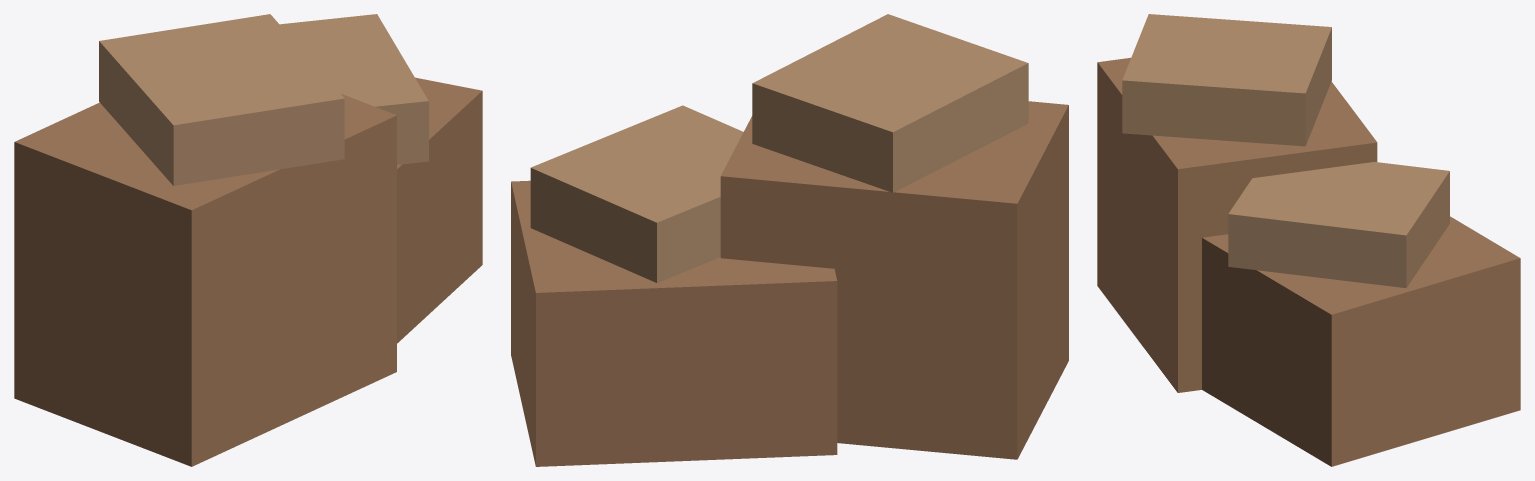
File: dd_rocks_b.glb
3 renders of one model, left to right at view 1: azimuth 30°, elevation 25°; view 2: azimuth 150°, elevation 25°; view 3: azimuth 270°, elevation 25°, orthographic. The views are drawn at different scales.
Visible parts, largest first — view 1: DUBG_dd_rocks_b; view 2: DUBG_dd_rocks_b; view 3: DUBG_dd_rocks_b.
Part boxes in pixels (x1,y1,x2,y2): DUBG_dd_rocks_b: (14,14,482,466); DUBG_dd_rocks_b: (511,14,1068,466); DUBG_dd_rocks_b: (1097,14,1520,466).
Bounding box in the file's own units: 5.56 × 3.45 × 4.78.
